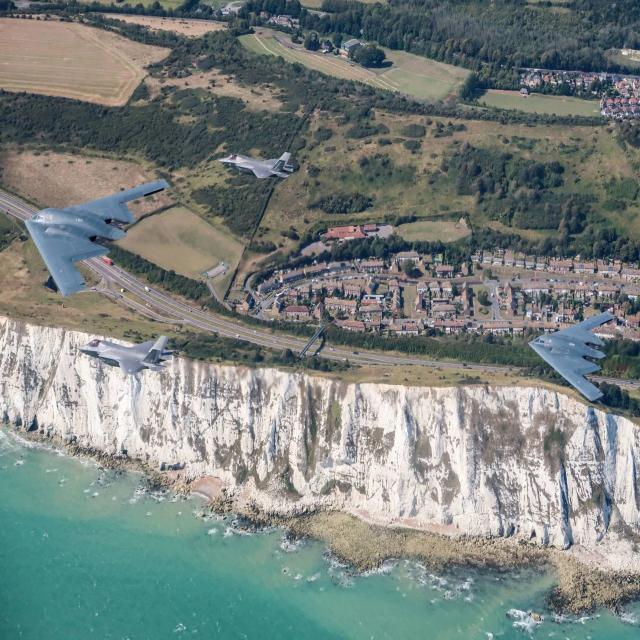MIL_Plane: (24, 51, 171, 169), (533, 311, 609, 401), (76, 335, 172, 375), (219, 152, 293, 178)
